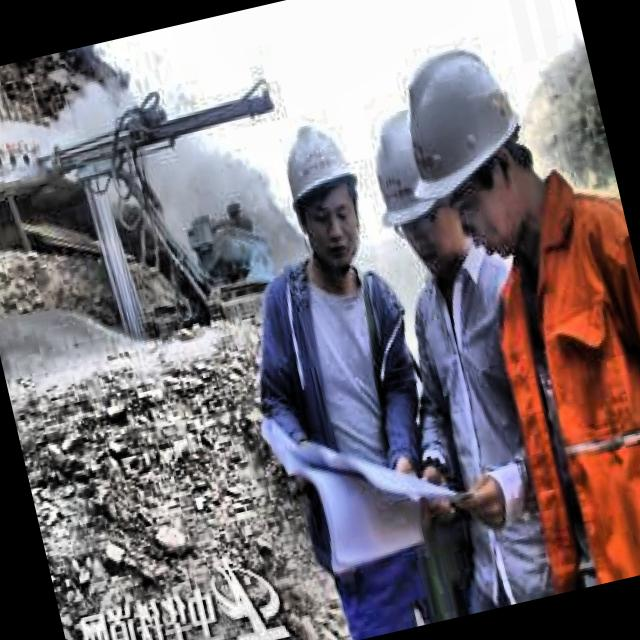helmet: (384, 17, 550, 270), (262, 98, 388, 286), (357, 98, 473, 300)
